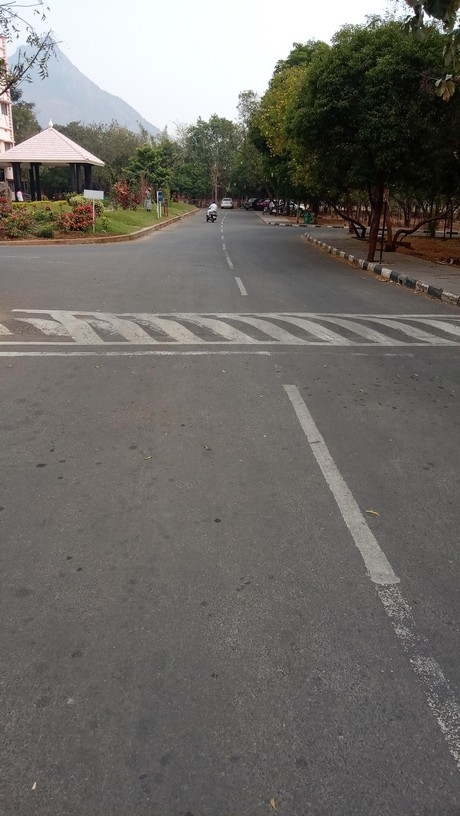bump: (1, 308, 460, 346)
